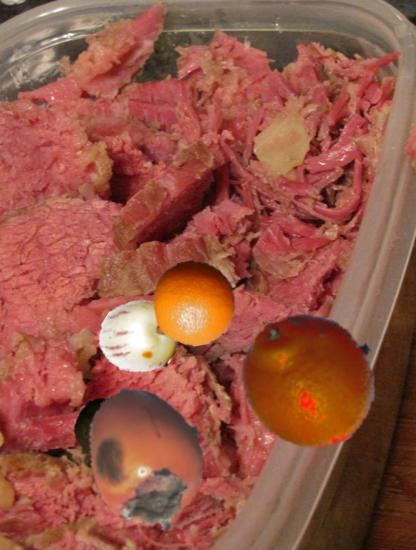Kaki: (73, 385, 221, 533)
Orange: (152, 261, 237, 346)
Papaya: (71, 396, 148, 473)
Pepino: (101, 297, 180, 376)
Tangelo: (241, 308, 383, 450)
